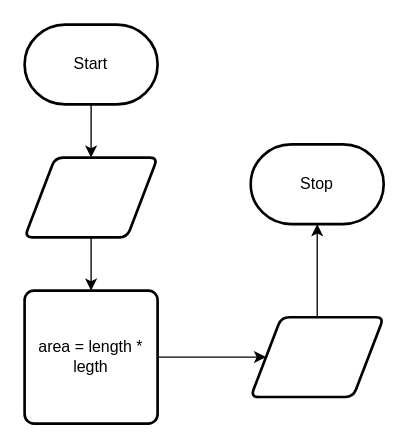
This 407x447 diagram has some shape labels left out. The shapes that lost their labels are listed below. From the top down, each one's box as (x1, y1, x2, y2) in pixels, then its label:
(23, 156, 158, 238): Get length
(249, 315, 384, 398): Show area
